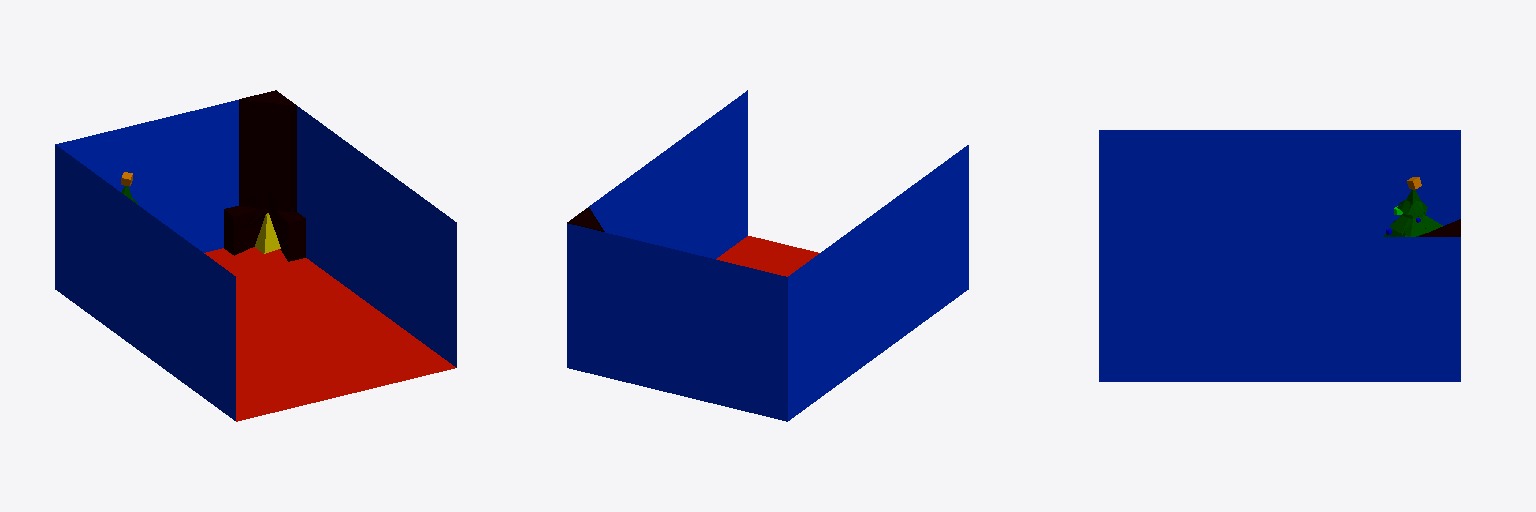
The picture shows the model from 3 angles: view 1: azimuth 30°, elevation 25°; view 2: azimuth 150°, elevation 25°; view 3: azimuth 270°, elevation 25°; orthographic projection.
Visible parts, largest first — view 1: sol_Plane, Cube, Icosphere; view 2: sol_Plane; view 3: sol_Plane, etage4_Circle.010.
Part boxes in pixels (bbox=[...]): sol_Plane: bbox=[55, 90, 456, 421]; Cube: bbox=[224, 90, 305, 261]; Icosphere: bbox=[255, 213, 280, 253]; sol_Plane: bbox=[567, 90, 968, 421]; sol_Plane: bbox=[1099, 130, 1460, 381]; etage4_Circle.010: bbox=[1389, 213, 1442, 236].
Bounding box in the file's own units: 5.91 × 3.73 × 8.4.